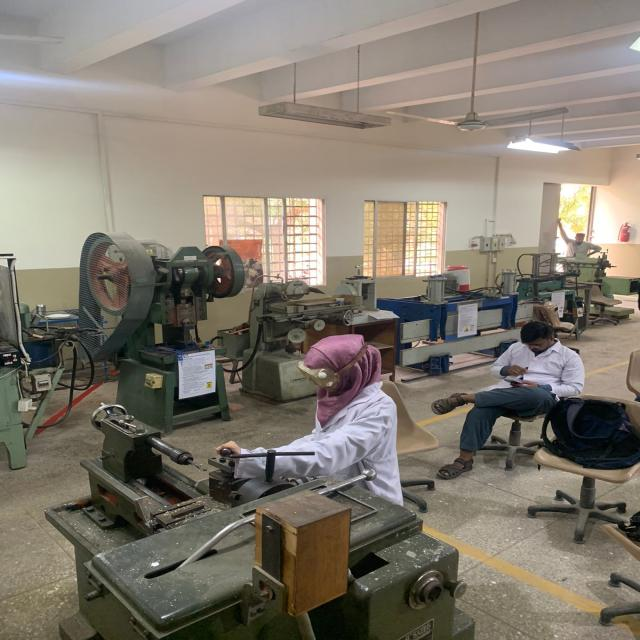googles: (296, 360, 336, 389)
labcoat: (227, 376, 404, 514), (474, 336, 590, 406)
